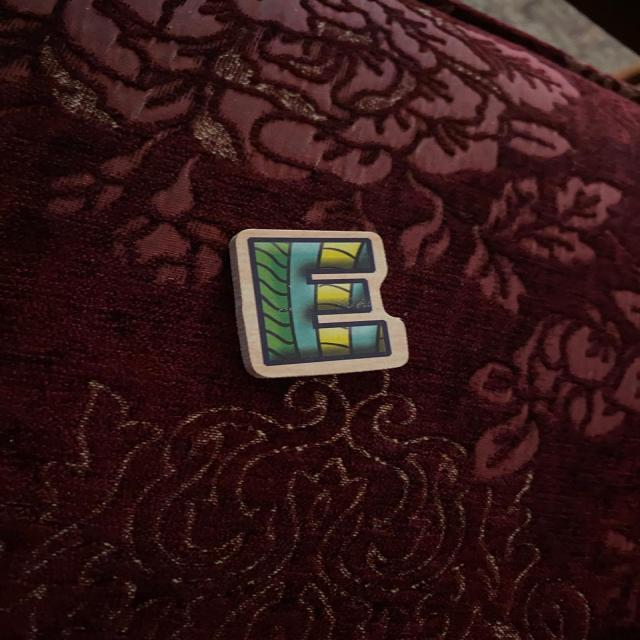E: (230, 229, 408, 378)
